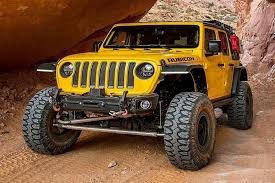mobil: (23, 20, 257, 168)
